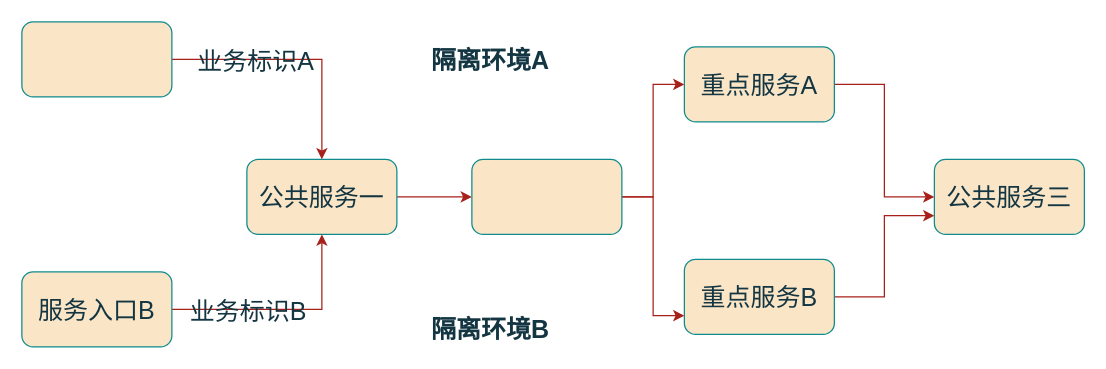
Some shapes in this 1106 by 369 pixel diagram are drawn without their labels. The box of each missing label's shape, as (x1, y1, x2, y2) in pixels:
公共服务二: (471, 158, 622, 234)
服务入口A: (21, 21, 172, 97)
